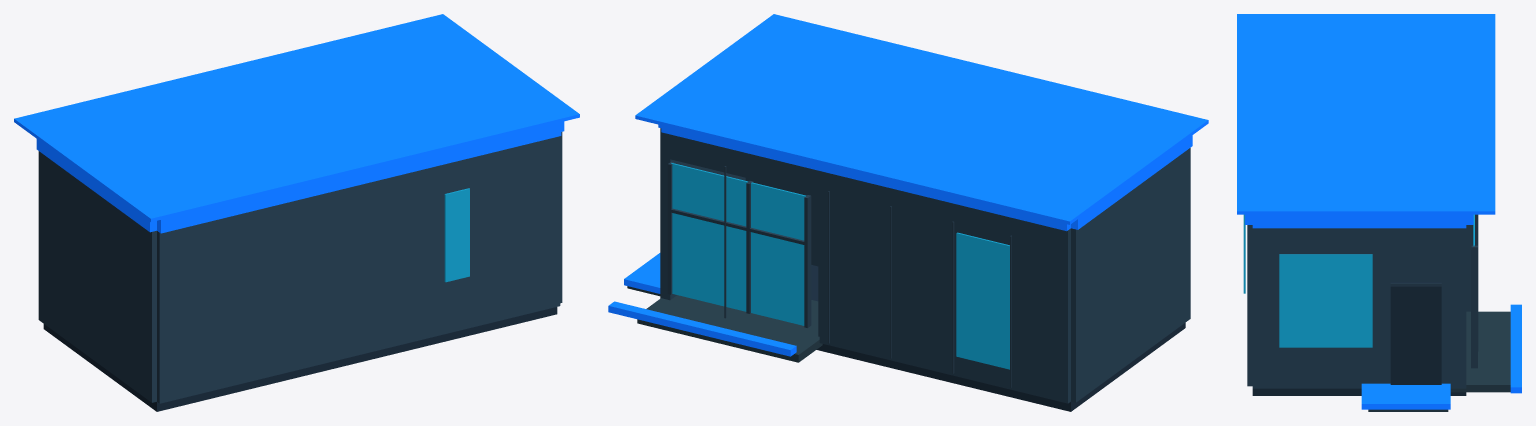
3 views of the same model, side by side, from view 1: azimuth 30°, elevation 25°; view 2: azimuth 150°, elevation 25°; view 3: azimuth 270°, elevation 25° (orthographic). The views are drawn at different scales.
Visible parts, largest first — view 1: Campus_E_F01_Envelope_White, Campus_E_EntranceDetail_Roof, Campus_E_RF_Structure_White, Campus_E_F01_Structure_Concrete, Campus_E_F01_Glazing_Glass; view 2: Campus_E_F01_Envelope_White, Campus_E_EntranceDetail_Roof, Campus_E_F01_Glazing_Glass, Campus_E_RF_Structure_White, Campus_E_EntranceDetail_Paving, Campus_E_F01_Glazing_Frame, Campus_E_F01_Structure_Concrete, Campus_E_EntranceDetail_Frame; view 3: Campus_E_EntranceDetail_Roof, Campus_E_F01_Envelope_White, Campus_E_RF_Structure_White, Campus_E_F01_Glazing_Glass, Campus_E_F01_Envelope_Concrete, Campus_E_EntranceDetail_Paving, Campus_E_F01_Glazing_Frame, Campus_E_F01_Structure_Concrete.
Part boxes in pixels (x1=…): Campus_E_F01_Envelope_White: x1=38, y1=132, x2=562, y2=403; Campus_E_EntranceDetail_Roof: x1=14, y1=14, x2=579, y2=221; Campus_E_RF_Structure_White: x1=36, y1=26, x2=564, y2=233; Campus_E_F01_Structure_Concrete: x1=43, y1=307, x2=557, y2=411; Campus_E_F01_Glazing_Glass: x1=444, y1=188, x2=469, y2=282; Campus_E_F01_Envelope_White: x1=660, y1=128, x2=1190, y2=403; Campus_E_EntranceDetail_Roof: x1=608, y1=14, x2=1208, y2=356; Campus_E_F01_Glazing_Glass: x1=671, y1=163, x2=1009, y2=369; Campus_E_RF_Structure_White: x1=658, y1=20, x2=1192, y2=231; Campus_E_EntranceDetail_Paving: x1=627, y1=286, x2=822, y2=362; Campus_E_F01_Glazing_Frame: x1=667, y1=161, x2=811, y2=327; Campus_E_F01_Structure_Concrete: x1=811, y1=265, x2=1185, y2=411; Campus_E_EntranceDetail_Frame: x1=724, y1=166, x2=1011, y2=387; Campus_E_EntranceDetail_Roof: x1=1237, y1=14, x2=1521, y2=409; Campus_E_F01_Envelope_White: x1=1247, y1=225, x2=1471, y2=388; Campus_E_RF_Structure_White: x1=1245, y1=17, x2=1473, y2=228; Campus_E_F01_Glazing_Glass: x1=1243, y1=214, x2=1474, y2=347; Campus_E_F01_Envelope_Concrete: x1=1390, y1=282, x2=1441, y2=384; Campus_E_EntranceDetail_Paving: x1=1368, y1=311, x2=1510, y2=411; Campus_E_F01_Glazing_Frame: x1=1471, y1=214, x2=1477, y2=368; Campus_E_F01_Structure_Concrete: x1=1252, y1=388, x2=1466, y2=395.
Size of the model in its own units: 11.35 by 4.74 by 6.4.
